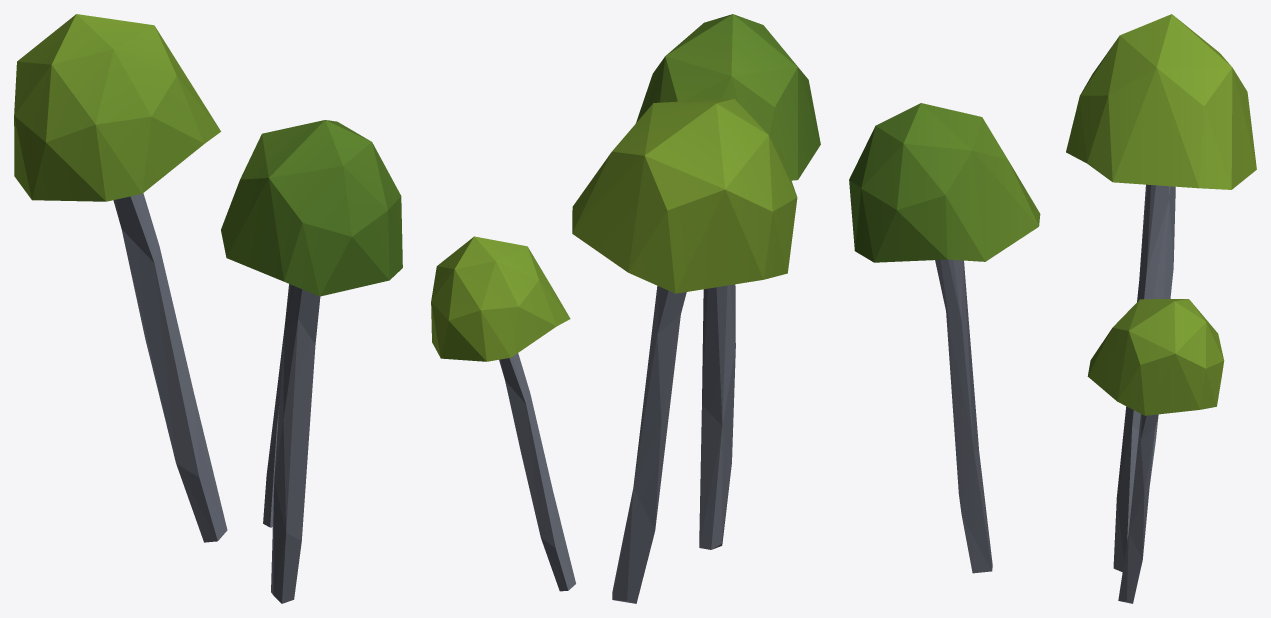
Rendered from Mushroom_02.fbx.
3 views of the same model, side by side, from view 1: azimuth 30°, elevation 25°; view 2: azimuth 150°, elevation 25°; view 3: azimuth 270°, elevation 25° (orthographic). The views are drawn at different scales.
Visible parts, largest first — view 1: Mushroom_02; view 2: Mushroom_02; view 3: Mushroom_02.
Boxes of the visible parts, <box> form: Mushroom_02: <box>14,14,402,603</box>; Mushroom_02: <box>431,14,820,603</box>; Mushroom_02: <box>849,14,1256,603</box>.
Bounding box in the file's own units: 0.4434 × 0.6859 × 0.4979.
